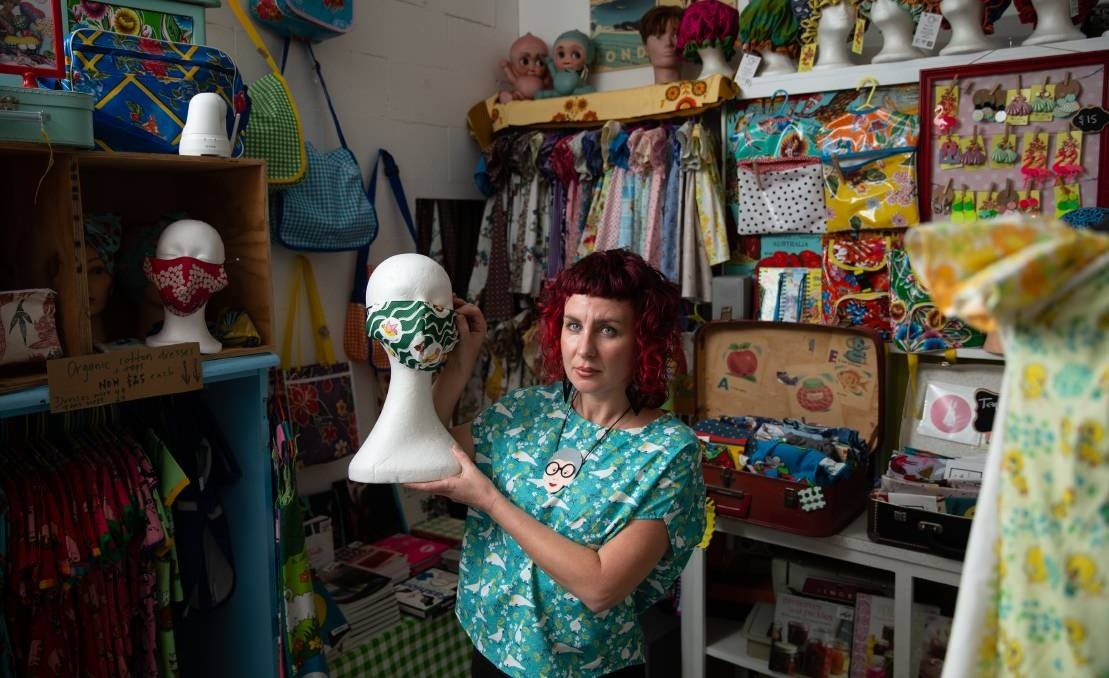face_no_mask: (556, 259, 655, 407)
